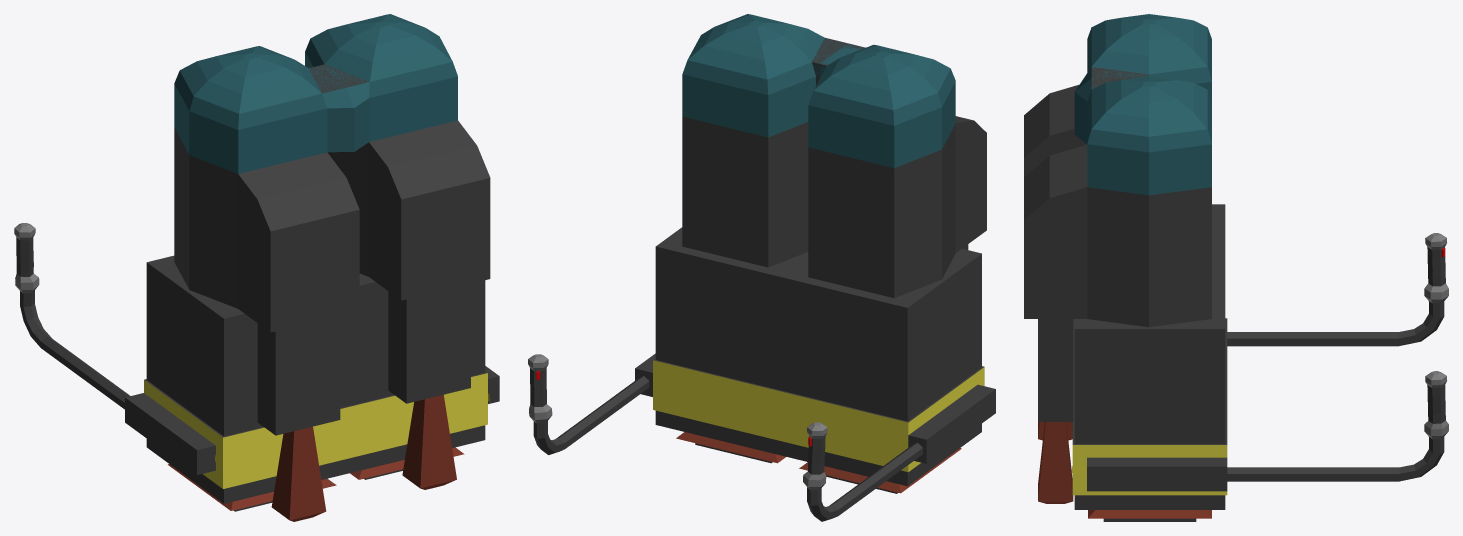
File: jetpack3.fbx
3 views of the same model, side by side, from view 1: azimuth 30°, elevation 25°; view 2: azimuth 150°, elevation 25°; view 3: azimuth 270°, elevation 25° (orthographic). The views are drawn at different scales.
Parts seen in each view (by area): view 1: JetPack; view 2: JetPack; view 3: JetPack.
Part boxes in pixels (x1,y1,x2,y2): JetPack: (14,14,499,521); JetPack: (528,14,995,521); JetPack: (1024,14,1448,521).
Size of the model in its own units: 91.99 by 123 by 113.
